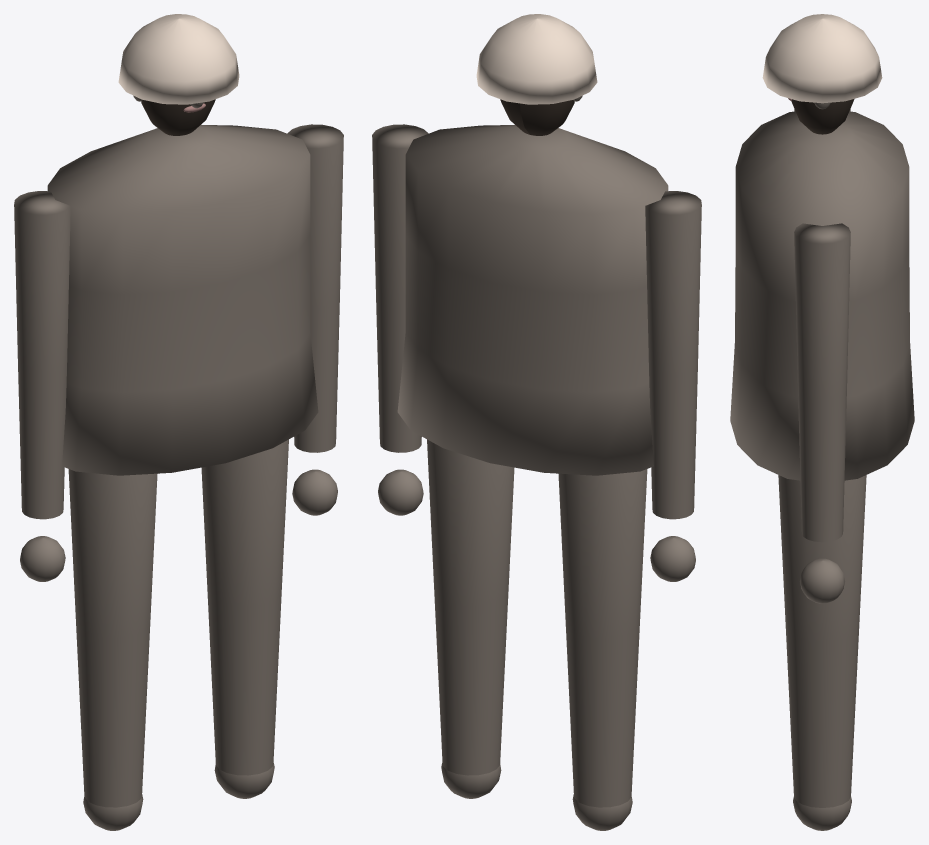
Rendered from avatar_mesh.glb.
3 renders of one model, left to right at view 1: azimuth 30°, elevation 25°; view 2: azimuth 150°, elevation 25°; view 3: azimuth 270°, elevation 25°, orthographic.
Parts seen in each view (by area): view 1: avatar; view 2: avatar; view 3: avatar.
Boxes of the visible parts, left/top/right/bottom form: avatar: left=14, top=14, right=343, bottom=830; avatar: left=372, top=14, right=701, bottom=830; avatar: left=730, top=14, right=914, bottom=830.
Size of the model in its own units: 0.1877 by 0.4413 by 0.0949.
6 materials, 1 textured.
